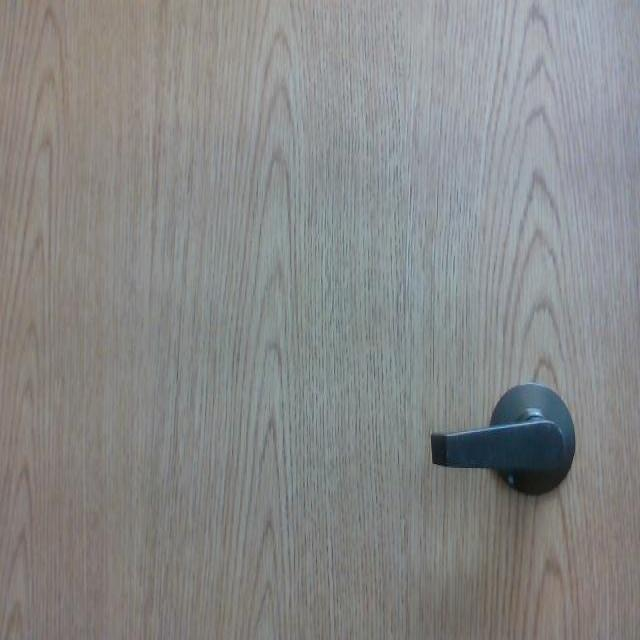doorhandle: (420, 383, 578, 501)
